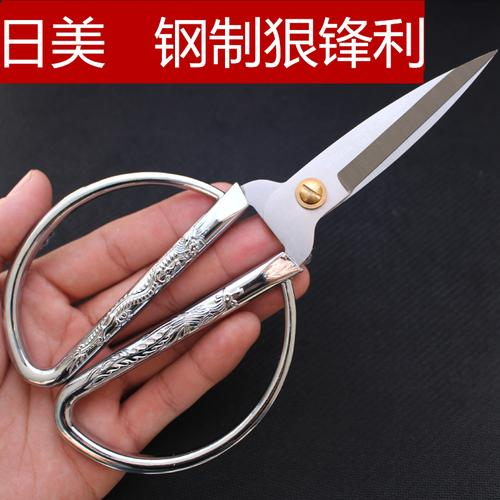scissor: (3, 51, 498, 476)
